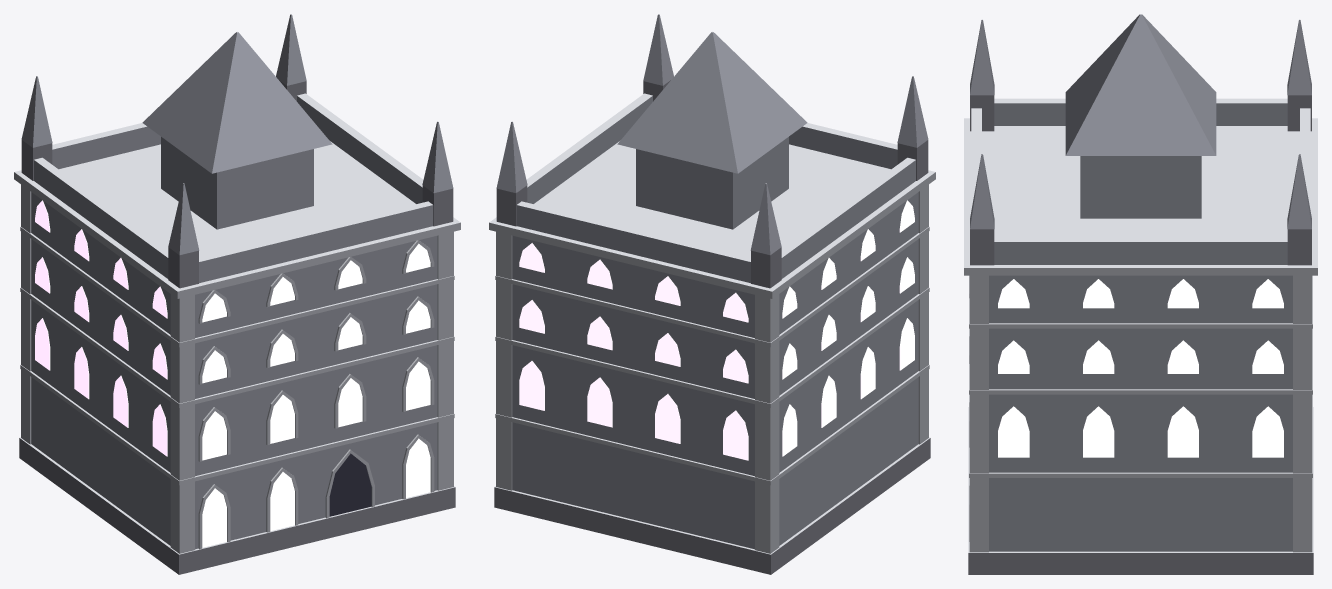
File: AR_Lote_Terraco.fbx
3 renders of one model, left to right at view 1: azimuth 30°, elevation 25°; view 2: azimuth 150°, elevation 25°; view 3: azimuth 270°, elevation 25°, orthographic. The views are drawn at different scales.
Parts seen in each view (by area): view 1: AR_Lote_Terraco; view 2: AR_Lote_Terraco; view 3: AR_Lote_Terraco.
Boxes of the visible parts, box(x1,y1,x2,y2) form: AR_Lote_Terraco: box(14, 14, 460, 574); AR_Lote_Terraco: box(489, 14, 935, 574); AR_Lote_Terraco: box(964, 14, 1317, 574).
Bounding box in the file's own units: 14.6 × 22.2 × 14.6.
